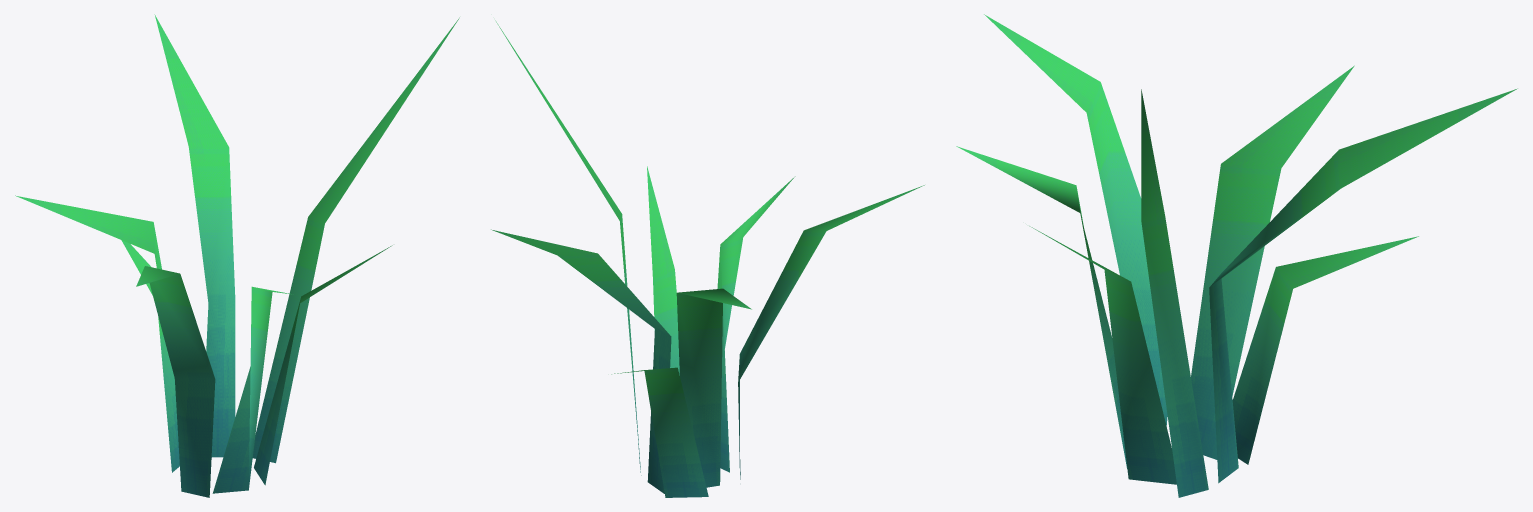
File: GrassAsset1.fbx
3 renders of one model, left to right at view 1: azimuth 30°, elevation 25°; view 2: azimuth 150°, elevation 25°; view 3: azimuth 270°, elevation 25°, orthographic. The views are drawn at different scales.
Visible parts, largest first — view 1: PlanterShort.014; view 2: PlanterShort.014; view 3: PlanterShort.014.
Part boxes in pixels (x1,y1,x2,y2): PlanterShort.014: (15,14,459,497); PlanterShort.014: (491,20,924,497); PlanterShort.014: (956,14,1517,497).
Bounding box in the file's own units: 140 × 144 × 143.
